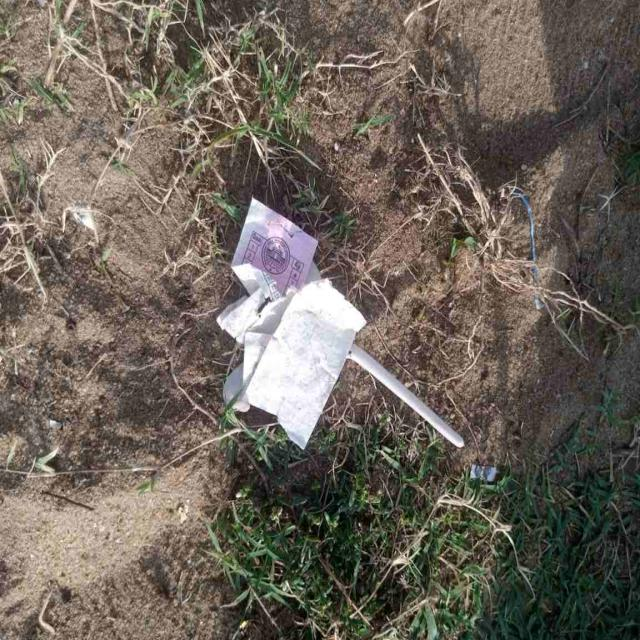biowaste: (210, 412, 640, 640)
paper: (217, 199, 366, 448)
plastic: (349, 344, 465, 448)
